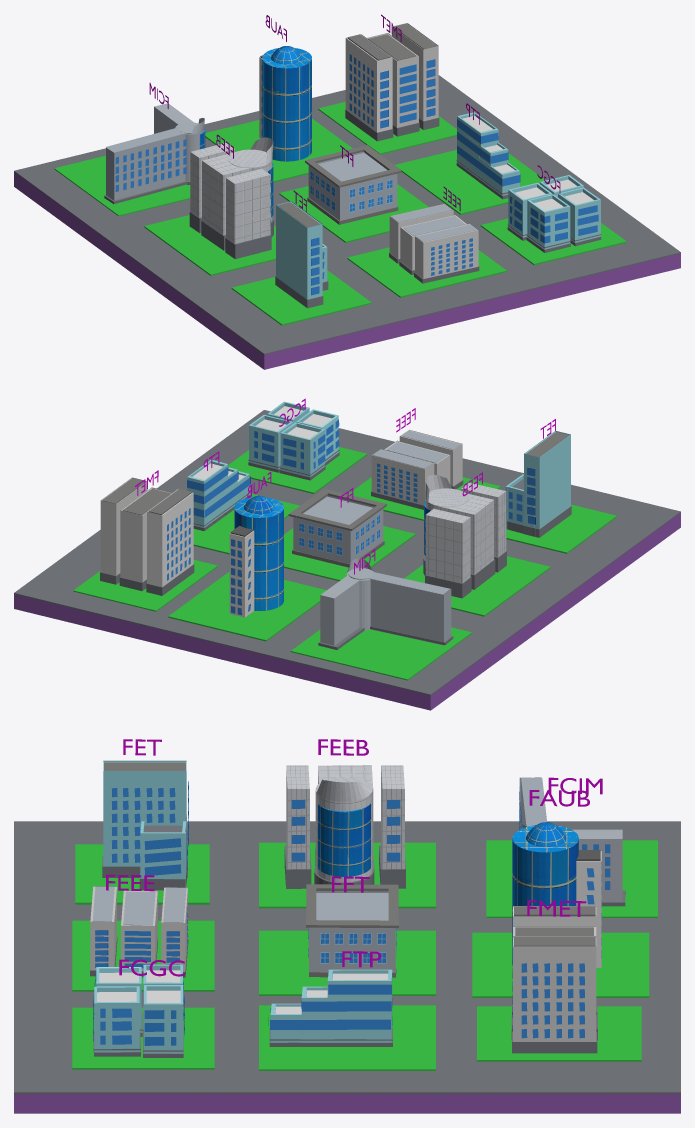
File: Unipply-city3.glb
The picture shows the model from 3 angles, top to bottom: view 1: azimuth 30°, elevation 25°; view 2: azimuth 150°, elevation 25°; view 3: azimuth 270°, elevation 25°; orthographic projection. The views are drawn at different scales.
Visible parts, largest first — view 1: grass.009, grass.010, Cylinder.001, grass.008, Cube.079, grass.003, bloc3, Cube.005, grass.005, Cube.008, grass.001, grass.006 (+20 smaller); view 2: grass.009, grass.010, grass.006, grass.007, Cube.076, Cylinder.001, Cube.008, bloc3, Cube.007, grass.005, grass.003, grass.002 (+25 smaller); view 3: grass.009, grass.010, Cube.010, grass.008, grass.004, grass.007, bloc3, grass.002, grass.006, grass.005, grass, Cylinder.001 (+36 smaller).
Boxes of the visible parts, <box> form: grass.009: <box>14,75,680,354</box>; grass.010: <box>14,172,680,369</box>; Cylinder.001: <box>262,48,311,161</box>; grass.008: <box>394,150,545,214</box>; Cube.079: <box>106,128,186,200</box>; grass.003: <box>231,270,371,325</box>; bloc3: <box>276,201,322,299</box>; Cube.005: <box>226,169,270,243</box>; grass.005: <box>144,215,275,275</box>; Cube.008: <box>345,34,392,132</box>; grass.001: <box>347,247,506,297</box>; grass.006: <box>54,155,190,216</box>; grass.009: <box>14,410,680,695</box>; grass.010: <box>14,512,680,710</box>; grass.006: <box>290,627,472,680</box>; grass.007: <box>168,571,326,641</box>; Cube.076: <box>369,578,451,645</box>; Cylinder.001: <box>234,497,283,610</box>; Cube.008: <box>147,488,193,587</box>; bloc3: <box>524,430,570,529</box>; Cube.007: <box>425,508,470,583</box>; grass.005: <box>404,556,550,616</box>; grass.003: <box>506,504,617,553</box>; grass.002: <box>73,559,217,611</box>; grass.009: <box>14,821,680,1094</box>; grass.010: <box>14,1093,680,1113</box>; Cube.010: <box>513,936,596,1041</box>; grass.008: <box>259,1005,435,1070</box>; grass.004: <box>259,930,435,995</box>; grass.007: <box>472,932,649,997</box>; bloc3: <box>103,760,186,866</box>; grass.002: <box>477,1006,641,1061</box>; grass.006: <box>486,840,657,917</box>; grass.005: <box>259,842,435,908</box>; grass: <box>72,1007,214,1069</box>; Cylinder.001: <box>512,825,578,963</box>.
Size of the model in its own units: 19.27 by 6.41 by 20.04.
863 materials, 8 textured.
